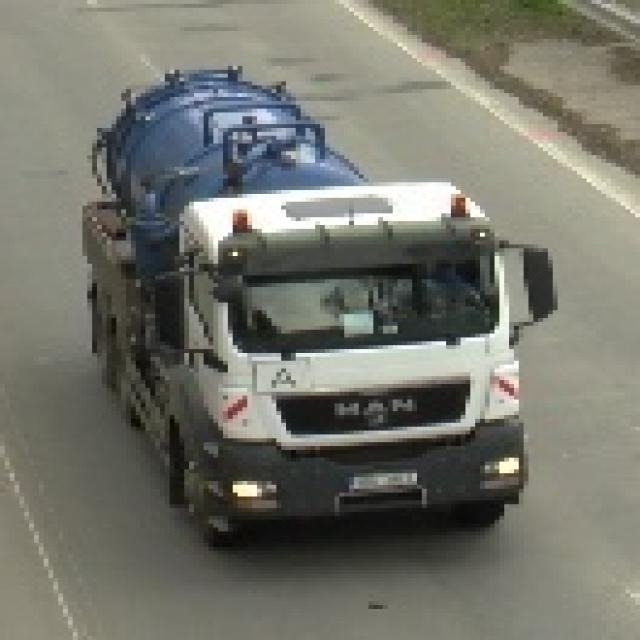Truck: (88, 62, 562, 543)
